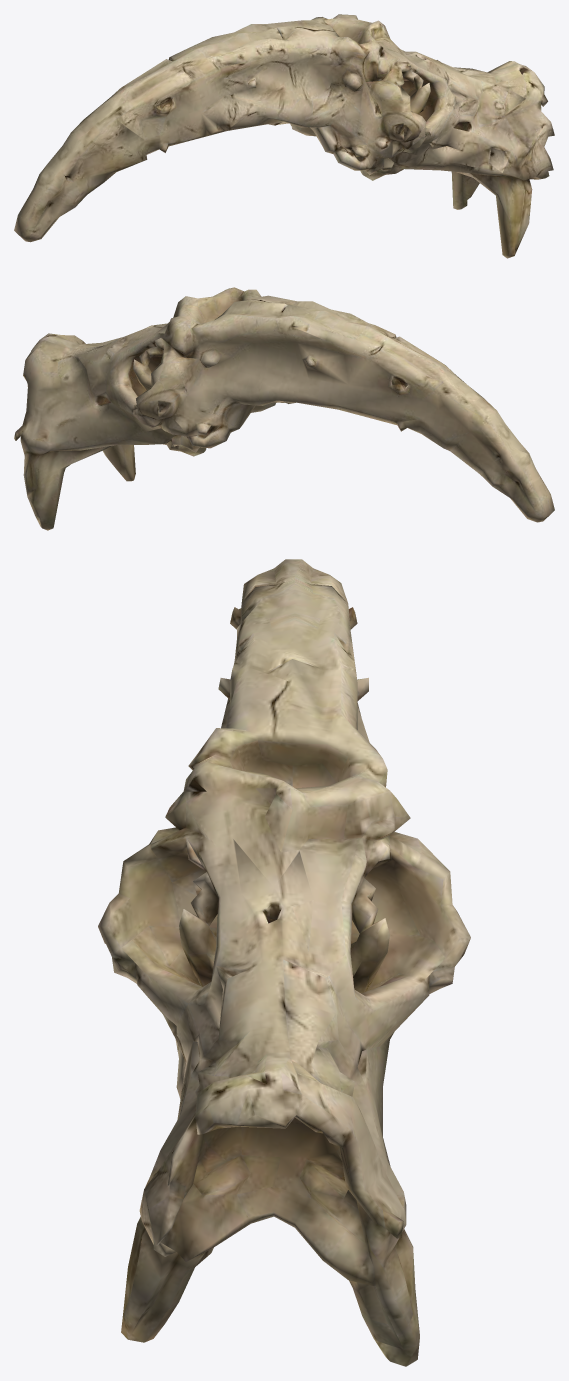
The model's file is queixada.glb.
3 renders of one model, top to bottom at view 1: azimuth 30°, elevation 25°; view 2: azimuth 150°, elevation 25°; view 3: azimuth 270°, elevation 25°, orthographic. The views are drawn at different scales.
Parts seen in each view (by area): view 1: tripo_node_dba843d4-02b4-42e7-9fae-b11778ebacbd; view 2: tripo_node_dba843d4-02b4-42e7-9fae-b11778ebacbd; view 3: tripo_node_dba843d4-02b4-42e7-9fae-b11778ebacbd.
Boxes of the visible parts, bbox=[...] form: tripo_node_dba843d4-02b4-42e7-9fae-b11778ebacbd: bbox=[14, 14, 554, 258]; tripo_node_dba843d4-02b4-42e7-9fae-b11778ebacbd: bbox=[14, 287, 554, 530]; tripo_node_dba843d4-02b4-42e7-9fae-b11778ebacbd: bbox=[98, 559, 470, 1366].
Bounding box in the file's own units: 0.9783 × 0.4652 × 0.3083.
Materials: 1 (1 with a texture image).
